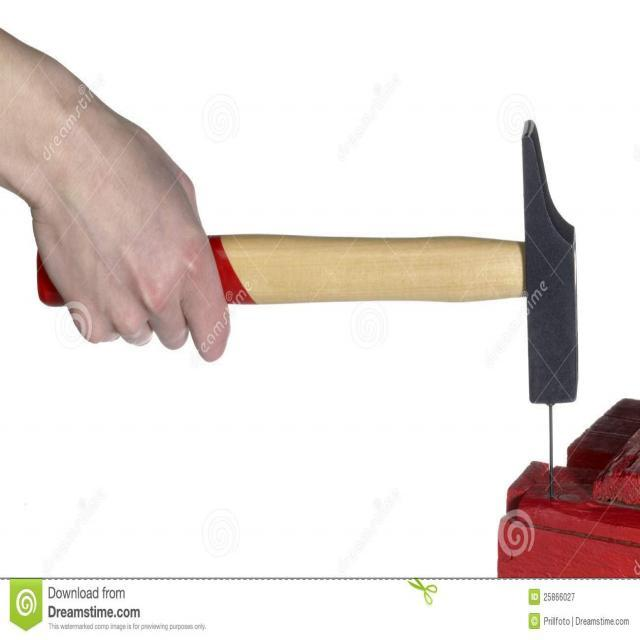hammer: (36, 116, 590, 414)
